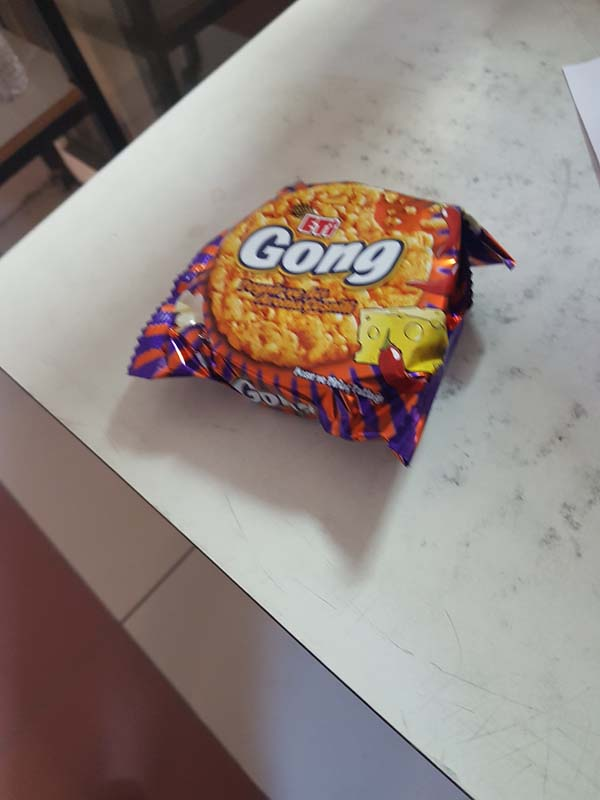etigong: (130, 148, 492, 470)
